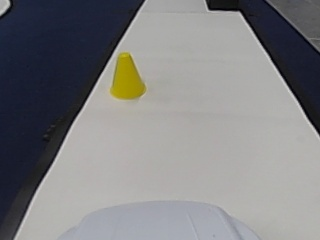cone: (110, 54, 145, 99)
